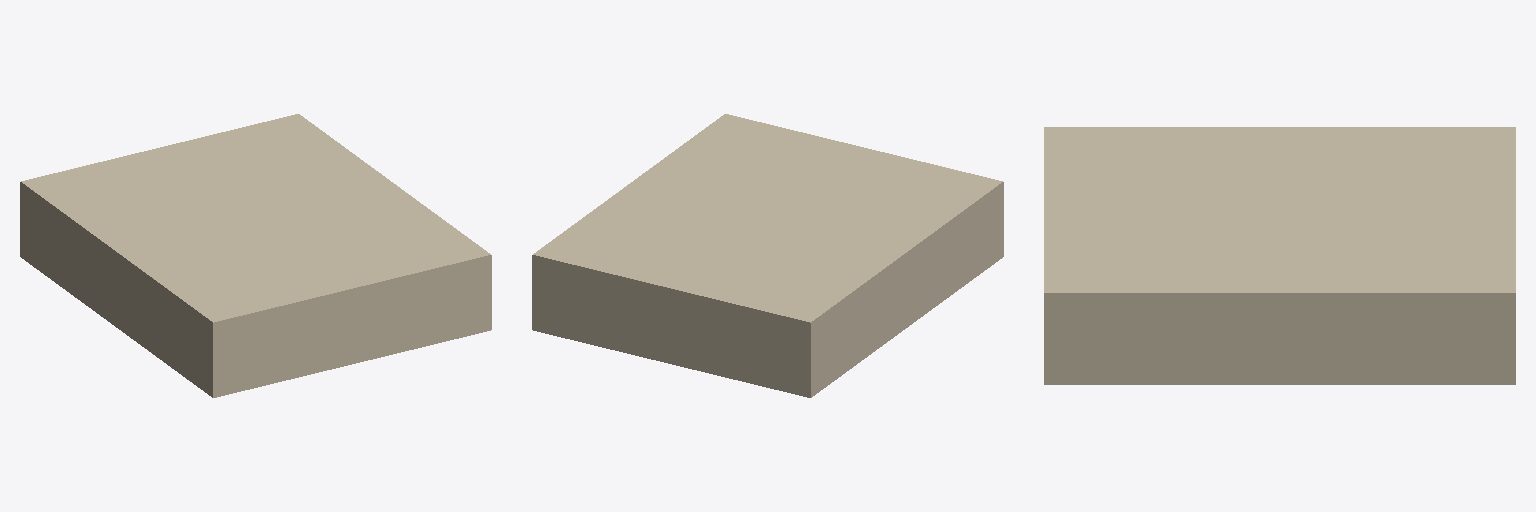
robot.urdf — laptop:
<?xml version="1.0"?>
<robot name="laptop">
  <link name="base_link">
    <visual>
      <origin xyz="0 0 0" rpy="0 0 0"/>
      <geometry>
        <box size="0.25 0.30 0.04"/>
      </geometry>
      <material name="beige">
        <color rgba="0.82 0.78 0.70 1.0"/>
      </material>
    </visual>
    <collision>
      <origin xyz="0 0 0" rpy="0 0 0"/>
      <geometry>
        <box size="0.25 0.30 0.04"/>
      </geometry>
    </collision>
    <inertial>
      <origin xyz="0 0 0" rpy="0 0 0"/>
      <mass value="2.0"/>
      <inertia ixx="0.01527" ixy="0.0" ixz="0.0" iyy="0.01068" iyz="0.0" izz="0.02542"/>
    </inertial>
  </link>

  <link name="lid">
    <visual>
      <origin xyz="0.125 0 0.0125" rpy="0 0 0"/>
      <geometry>
        <box size="0.25 0.30 0.025"/>
      </geometry>
      <material name="beige_lid">
        <color rgba="0.82 0.78 0.70 1.0"/>
      </material>
    </visual>
    <collision>
      <origin xyz="0.125 0 0.0125" rpy="0 0 0"/>
      <geometry>
        <box size="0.25 0.30 0.025"/>
      </geometry>
    </collision>
    <inertial>
      <origin xyz="0.125 0 0.0125" rpy="0 0 0"/>
      <mass value="0.6"/>
      <inertia ixx="0.00453" ixy="0.0" ixz="0.0" iyy="0.00316" iyz="0.0" izz="0.00762"/>
    </inertial>
  </link>

  <joint name="hinge" type="revolute">
    <parent link="base_link"/>
    <child link="lid"/>
    <!-- rear top edge of base. X forward, Y left, Z up -->
    <origin xyz="-0.125 0 0.02" rpy="0 0 0"/>
    <axis xyz="0 -1 0"/>
    <!-- 0 = closed flat on base, ~1.57 = open vertical as in start of video -->
    <limit lower="0.0" upper="1.92" effort="5.0" velocity="2.0"/>
    <dynamics damping="0.1" friction="0.2"/>
  </joint>
</robot>

--- Facts derived from the render (not from the file) ---
Views: 3 orthographic renders of the robot side by side, from view 1: azimuth 30°, elevation 25°; view 2: azimuth 150°, elevation 25°; view 3: azimuth 270°, elevation 25°.
Robot: laptop — 2 links, 1 joints (1 revolute); root link base_link; default pose: every joint at zero.
Links seen in each view (by area): view 1: lid, base_link; view 2: lid, base_link; view 3: lid, base_link.
Boxes of the visible links, left/top/right/bottom form: lid: left=20, top=114, right=491, bottom=351; base_link: left=20, top=211, right=491, bottom=397; lid: left=532, top=114, right=1003, bottom=351; base_link: left=532, top=211, right=1003, bottom=397; lid: left=1044, top=127, right=1515, bottom=327; base_link: left=1044, top=328, right=1515, bottom=384.
Size in the robot's own frame: 0.25 by 0.3 by 0.065 metres.
Geometry: primitives only (box / cylinder / sphere), no mesh files.
